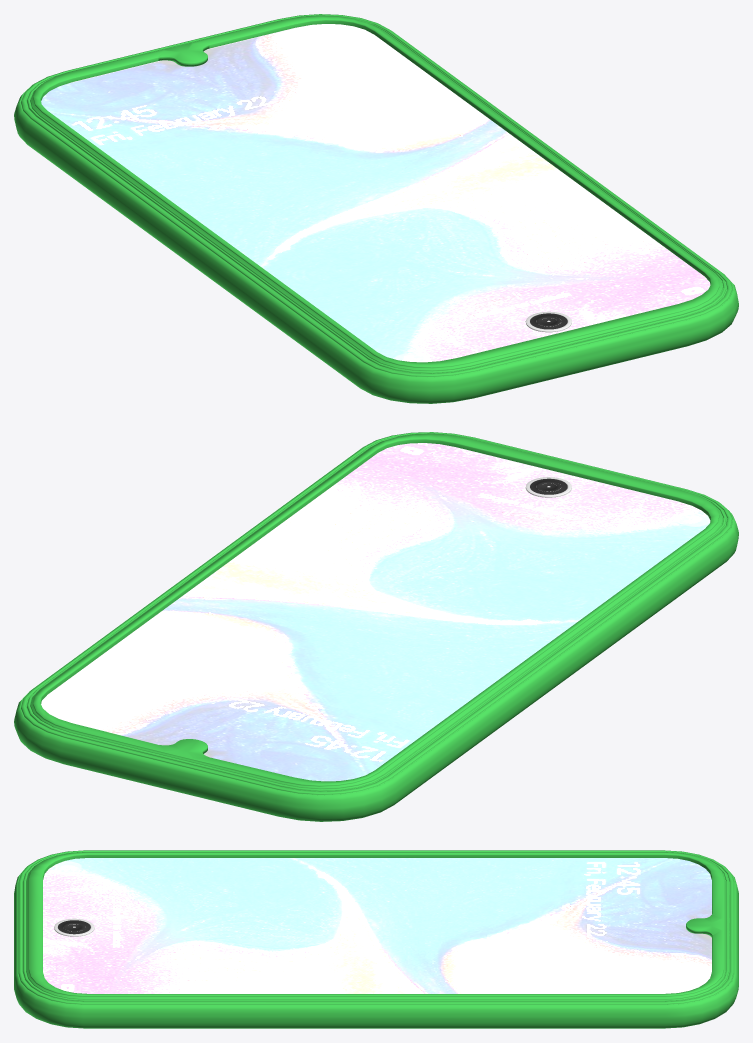
The model's file is phoneGreen.glb.
3 renders of one model, top to bottom at view 1: azimuth 30°, elevation 25°; view 2: azimuth 150°, elevation 25°; view 3: azimuth 270°, elevation 25°, orthographic. The views are drawn at different scales.
Visible parts, largest first — view 1: Emission, Cube, Cylinder001; view 2: Emission, Cube, Cylinder001; view 3: Emission, Cube, Cylinder001.
Boxes of the visible parts, x1,y1,x2,y2 form: Emission: (41,24,710,362); Cube: (14,14,738,403); Cylinder001: (525,311,571,332); Emission: (41,443,710,781); Cube: (14,432,738,821); Cylinder001: (525,477,571,497); Emission: (43,858,711,993); Cube: (14,850,738,1028); Cylinder001: (54,918,94,936).
Size of the model in its own units: 0.999 by 0.0837 by 1.93.
